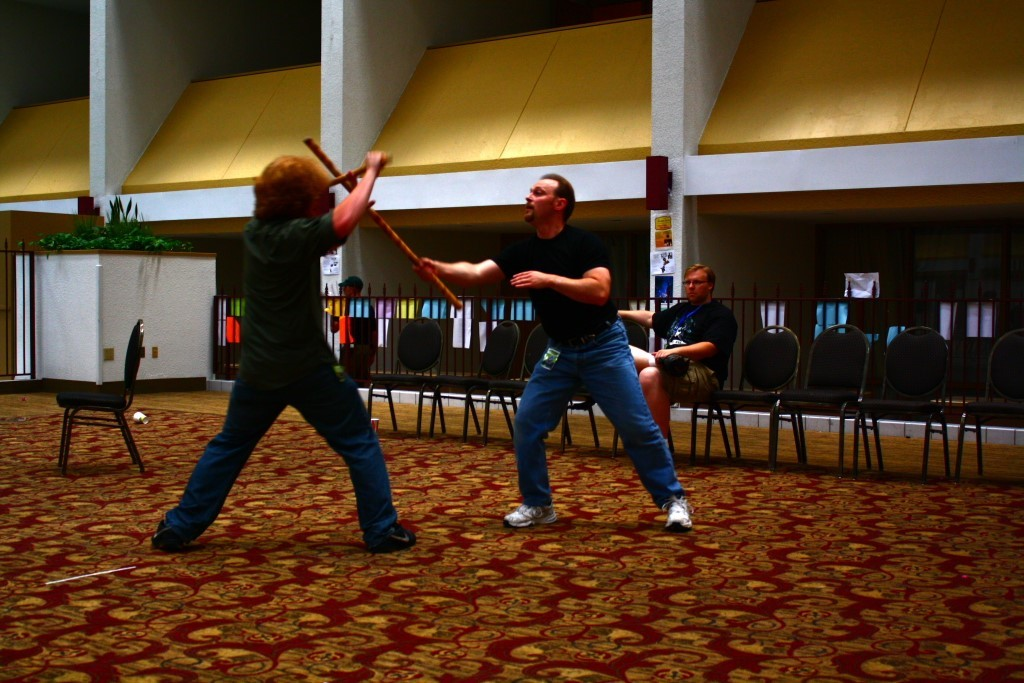baston_e: (300, 145, 463, 302), (328, 152, 384, 189)
baston_v: (375, 149, 397, 165), (299, 130, 315, 147), (452, 303, 472, 313)
